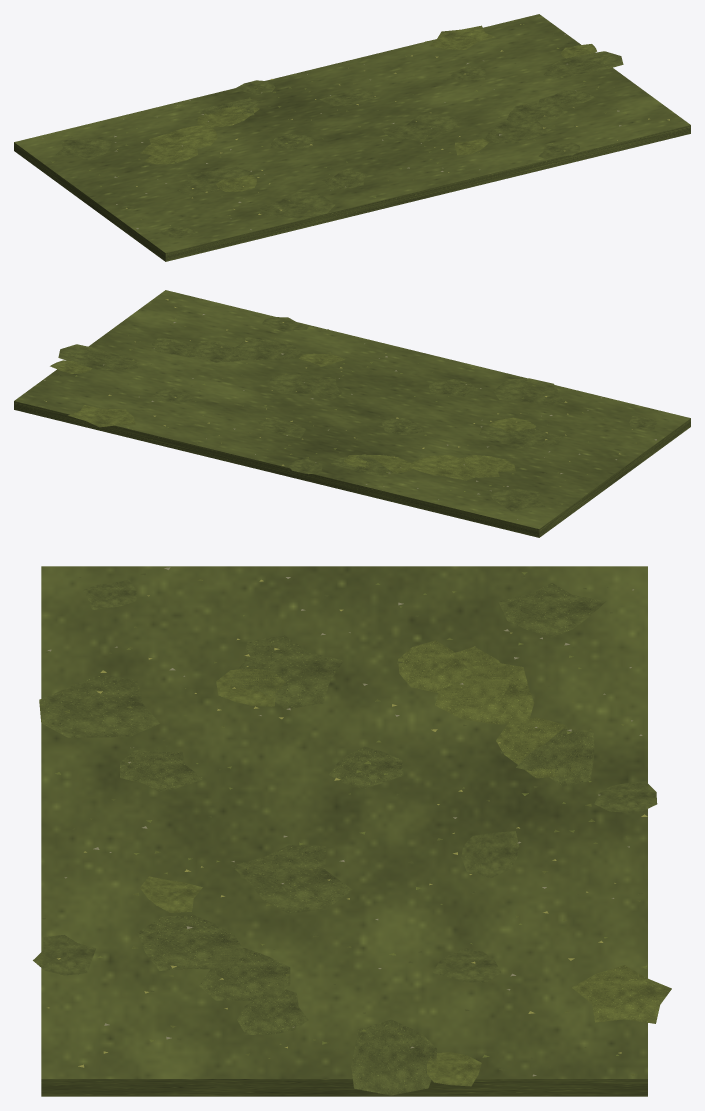
The model's file is ground-patch-2.fbx.
3 views of the same model, one above another, from view 1: azimuth 30°, elevation 25°; view 2: azimuth 150°, elevation 25°; view 3: azimuth 270°, elevation 25° (orthographic). The views are drawn at different scales.
Visible parts, largest first — view 1: ground-patch-2__Geometry; view 2: ground-patch-2__Geometry; view 3: ground-patch-2__Geometry.
Boxes of the visible parts, <box> form: ground-patch-2__Geometry: <box>14,14,690,261</box>; ground-patch-2__Geometry: <box>14,290,690,537</box>; ground-patch-2__Geometry: <box>33,566,671,1096</box>.
Bounding box in the file's own units: 10.34 × 0.171 × 5.27.
